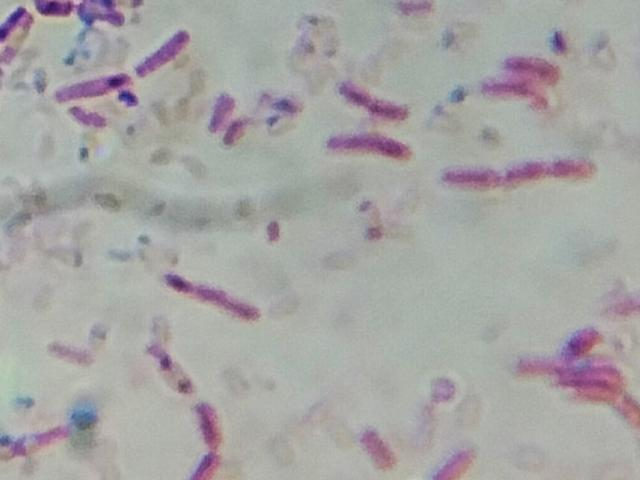E. coli: (136, 30, 200, 76), (338, 76, 410, 115), (332, 130, 407, 161), (54, 72, 130, 101), (149, 348, 197, 393), (492, 52, 569, 78), (484, 75, 553, 101), (362, 422, 394, 468), (203, 88, 236, 130), (193, 399, 224, 441), (556, 147, 594, 180), (167, 275, 226, 296), (607, 386, 640, 423), (185, 448, 223, 480), (83, 4, 128, 31), (444, 166, 501, 187), (563, 377, 619, 398), (31, 0, 80, 23), (0, 5, 26, 47), (564, 325, 597, 357), (510, 158, 548, 185), (564, 359, 624, 376), (226, 108, 250, 149), (520, 357, 559, 375)
